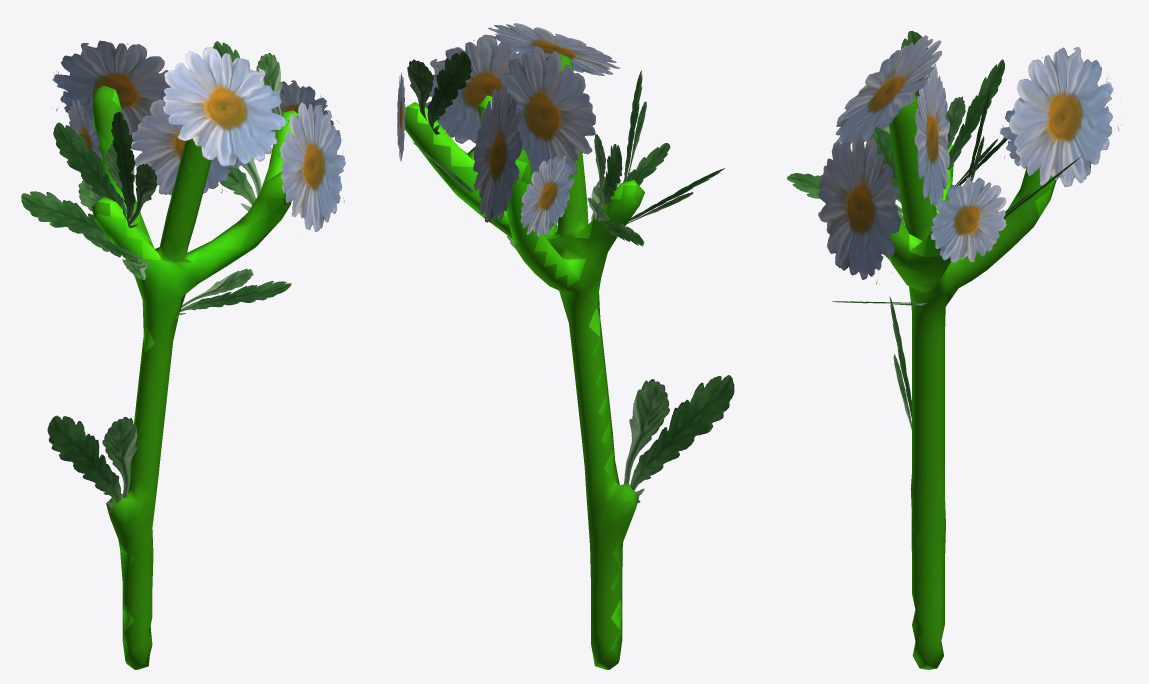
File: camomila.fbx
3 views of the same model, side by side, from view 1: azimuth 30°, elevation 25°; view 2: azimuth 150°, elevation 25°; view 3: azimuth 270°, elevation 25° (orthographic). The views are drawn at different scales.
Parts seen in each view (by area): view 1: camomilaFlor, camomila, folhaCamomila; view 2: camomila, camomilaFlor, folhaCamomila; view 3: camomilaFlor, camomila, folhaCamomila.
Part boxes in pixels (bbox=[...]): camomilaFlor: bbox=[52, 40, 345, 231]; camomila: bbox=[91, 85, 298, 669]; folhaCamomila: bbox=[21, 41, 291, 512]; camomila: bbox=[404, 53, 644, 669]; camomilaFlor: bbox=[397, 23, 620, 236]; folhaCamomila: bbox=[407, 51, 734, 503]; camomilaFlor: bbox=[818, 35, 1121, 284]; camomila: bbox=[888, 94, 1056, 669]; folhaCamomila: bbox=[787, 31, 1081, 430].
Bounding box in the file's own units: 22.15 × 39.66 × 19.42.
